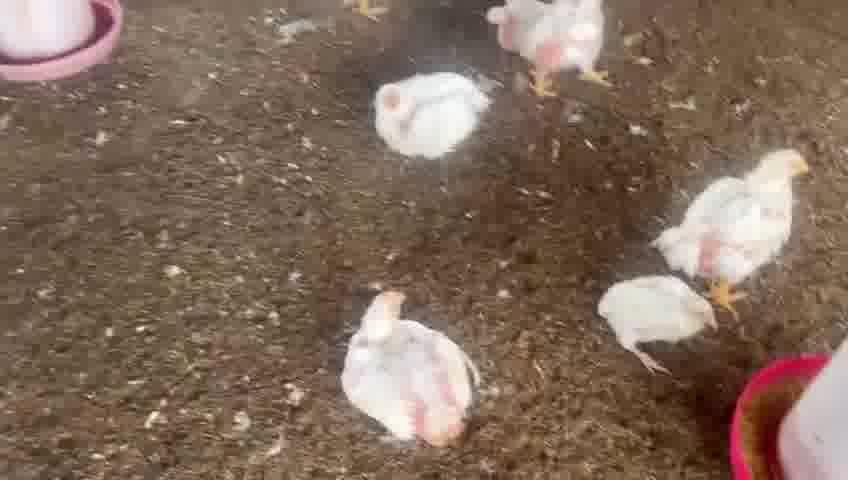AbNormal: (586, 249, 721, 381)
Normal: (344, 285, 499, 451), (664, 134, 813, 294), (482, 0, 630, 100), (362, 61, 492, 156)
